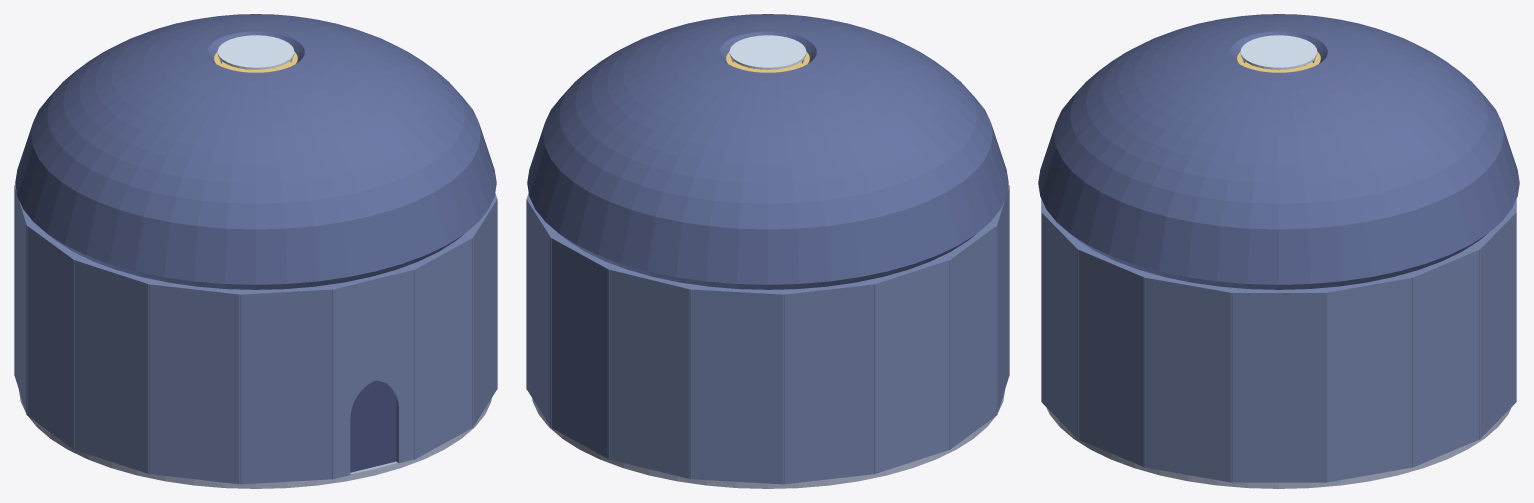
The model's file is boss_room.fbx.
3 views of the same model, side by side, from view 1: azimuth 30°, elevation 25°; view 2: azimuth 150°, elevation 25°; view 3: azimuth 270°, elevation 25° (orthographic).
Visible parts, largest first — view 1: Dome_boss_room, Stone_boss_room, Path_boss_room, Glass_boss_room, DoorL_boss_room, DoorR_boss_room; view 2: Dome_boss_room, Stone_boss_room, Path_boss_room, Glass_boss_room; view 3: Dome_boss_room, Stone_boss_room, Path_boss_room, Glass_boss_room.
Part boxes in pixels (left/top/right/bottom): Dome_boss_room: left=15, top=14, right=496, bottom=289; Stone_boss_room: left=14, top=60, right=497, bottom=484; Path_boss_room: left=19, top=391, right=491, bottom=488; Glass_boss_room: left=217, top=35, right=294, bottom=69; DoorL_boss_room: left=372, top=380, right=396, bottom=467; DoorR_boss_room: left=350, top=382, right=372, bottom=472; Dome_boss_room: left=527, top=14, right=1008, bottom=289; Stone_boss_room: left=526, top=60, right=1009, bottom=484; Path_boss_room: left=532, top=391, right=1004, bottom=488; Glass_boss_room: left=729, top=35, right=806, bottom=69; Dome_boss_room: left=1038, top=14, right=1519, bottom=289; Stone_boss_room: left=1041, top=59, right=1516, bottom=482; Path_boss_room: left=1046, top=407, right=1511, bottom=488; Glass_boss_room: left=1240, top=35, right=1317, bottom=69.
Bounding box in the file's own units: 138 × 107 × 138.
